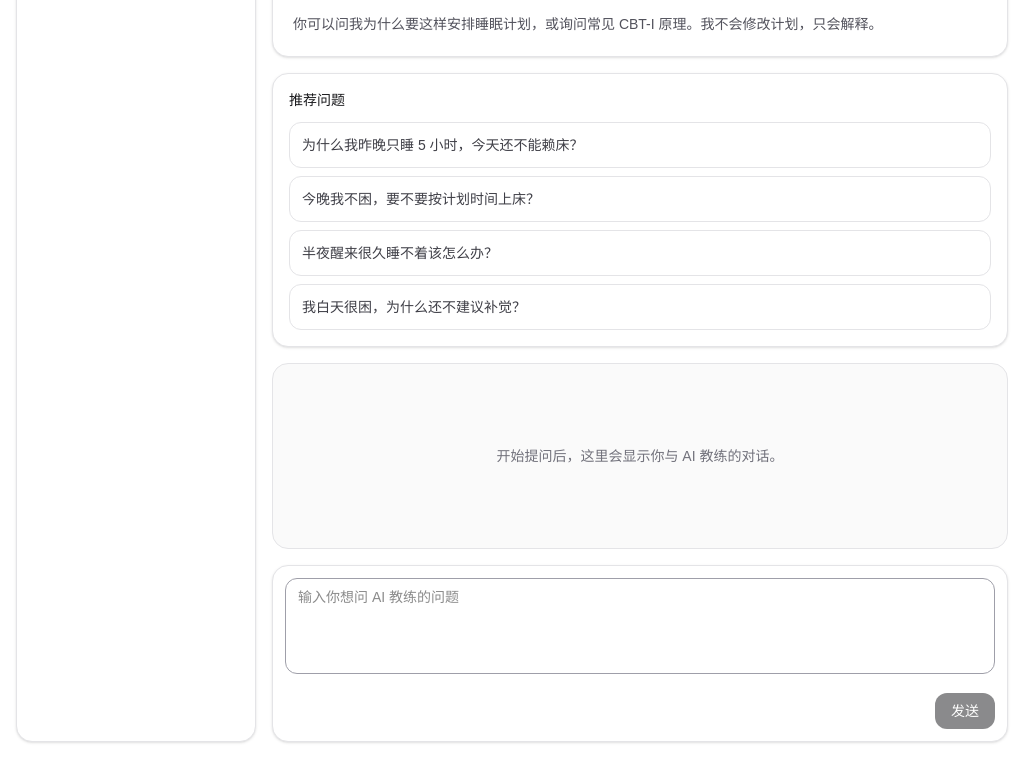
Test: CoachShell › stream 模式下助手内容随分片累积（mock 流）
This screenshot has width=1024, height=766.
(page scrolled)
Click the button "半夜醒来很久睡不着该怎么办？": (400, 253) top-left (289, 230), bottom-right (991, 276)
(page scrolled)
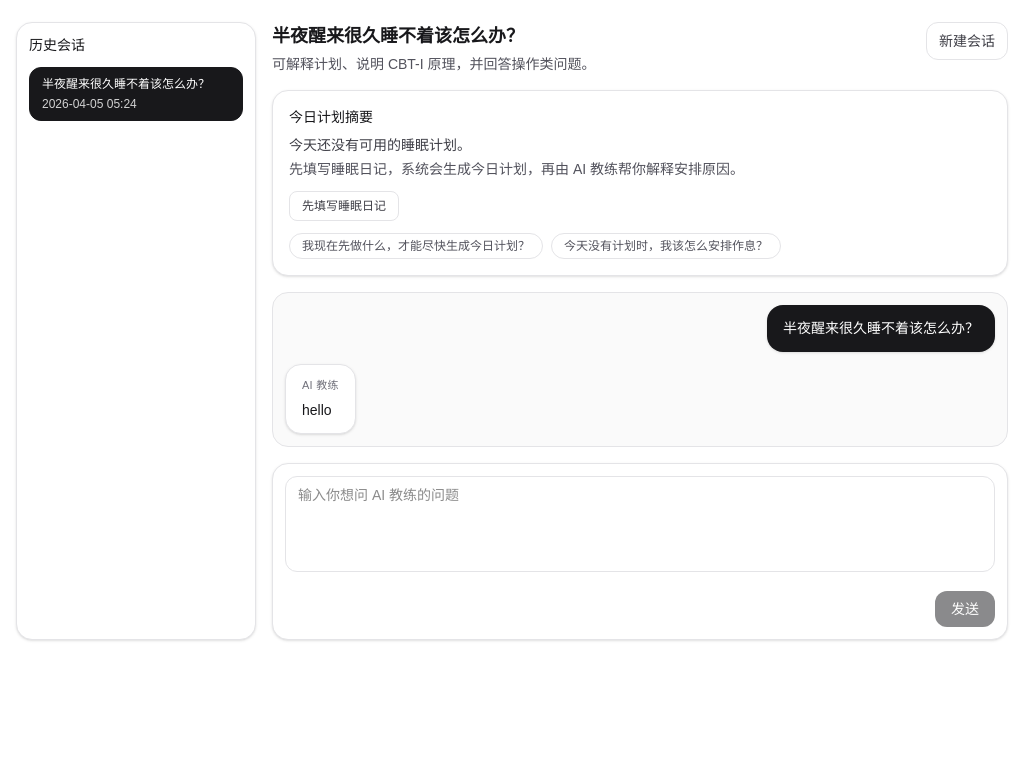
Result: the text "hello" is shown at top-left (302, 402), bottom-right (332, 418)
